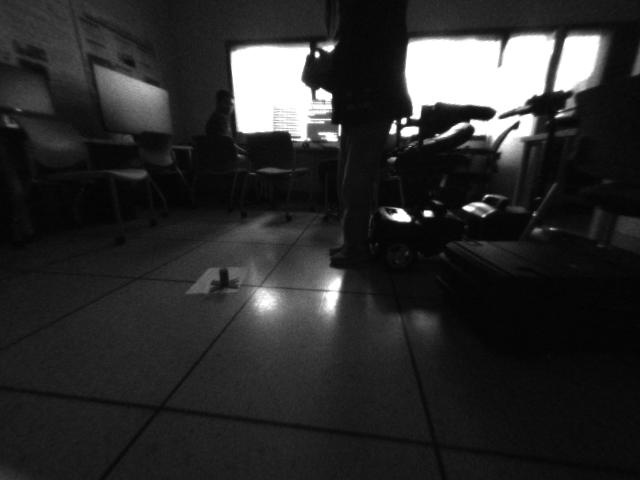x: (204, 262, 251, 296)
